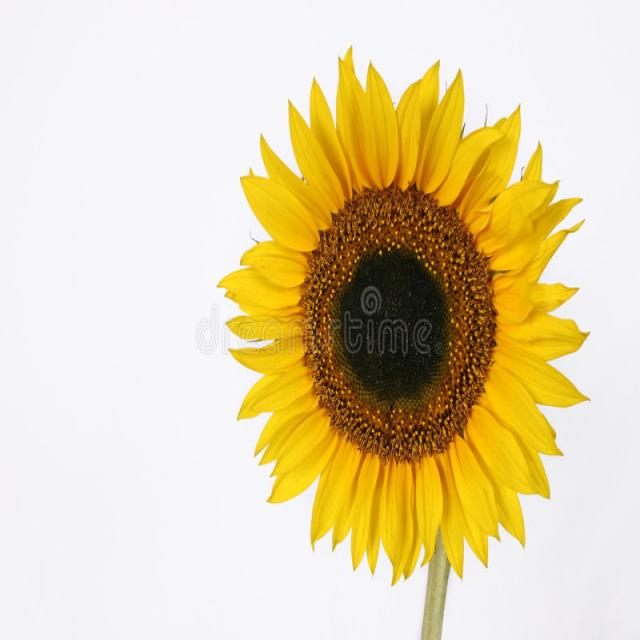sunflower: (190, 44, 603, 591)
